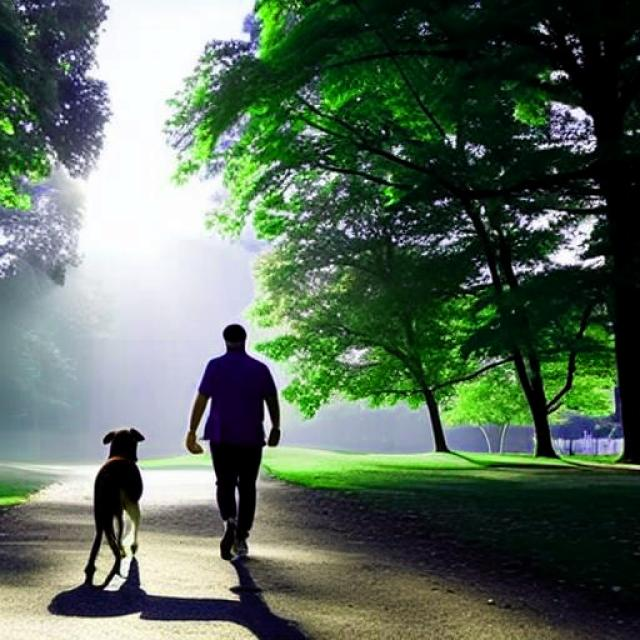Unleashed_Dog: (84, 428, 262, 572)
